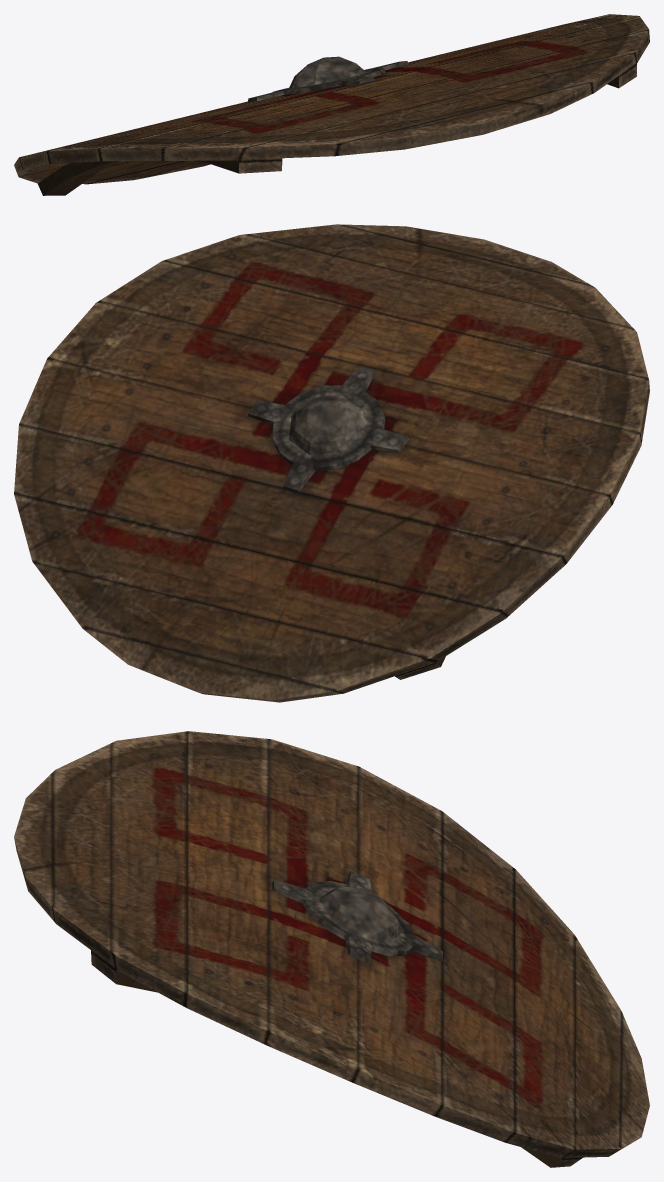
File: tarcza5.glb
3 renders of one model, top to bottom at view 1: azimuth 30°, elevation 25°; view 2: azimuth 150°, elevation 25°; view 3: azimuth 270°, elevation 25°, orthographic. The views are drawn at different scales.
Parts seen in each view (by area): view 1: zengin; view 2: zengin; view 3: zengin.
Part boxes in pixels (x1,y1,x2,y2): zengin: (14, 14, 649, 195); zengin: (14, 224, 649, 702); zengin: (14, 731, 649, 1167).
Bounding box in the file's own units: 0.752 × 0.3181 × 0.6642.
Materials: 1 (1 with a texture image).
